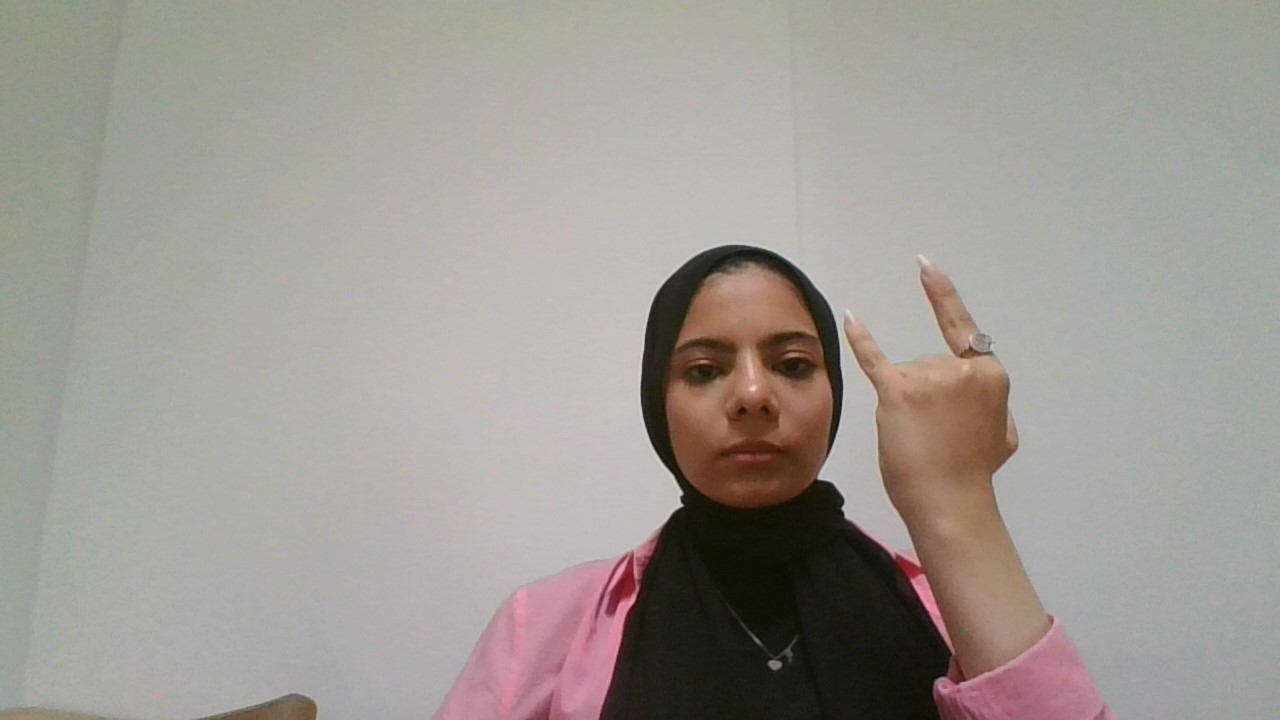love: (807, 252, 1059, 546)
